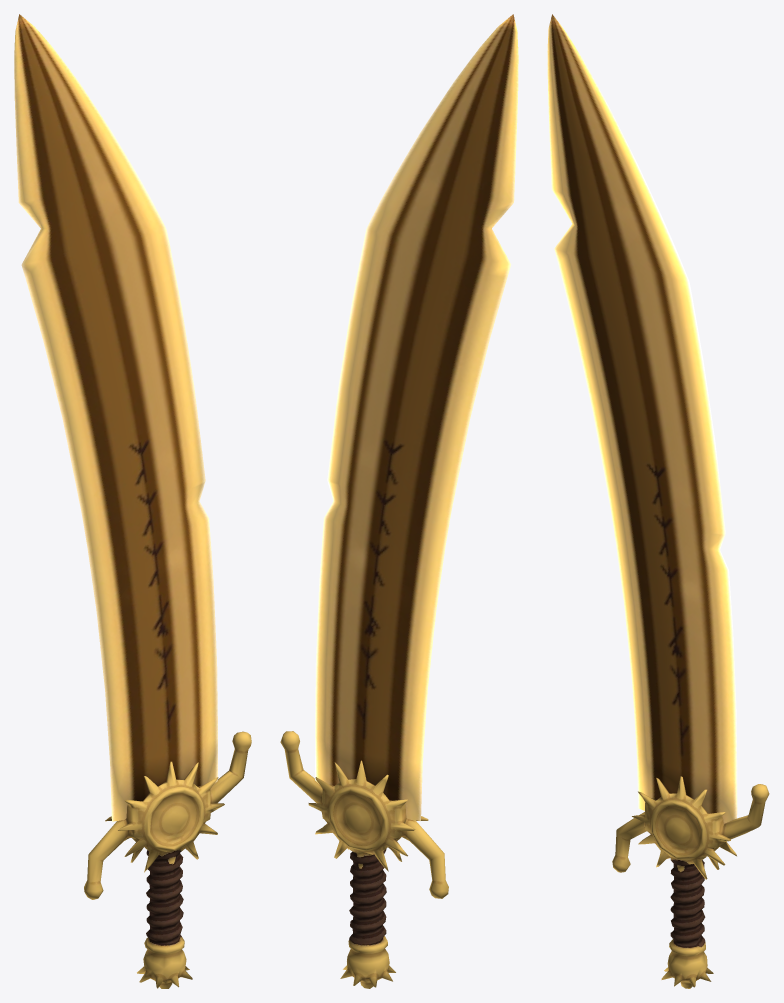
Rendered from weapon_dawn.glb.
3 renders of one model, left to right at view 1: azimuth 30°, elevation 25°; view 2: azimuth 150°, elevation 25°; view 3: azimuth 330°, elevation 25°, orthographic. The views are drawn at different scales.
Parts seen in each view (by area): view 1: weapon_dawn; view 2: weapon_dawn; view 3: weapon_dawn.
Boxes of the visible parts, x1,y1,x2,y2 form: weapon_dawn: [14, 14, 251, 988]; weapon_dawn: [280, 14, 518, 988]; weapon_dawn: [547, 14, 769, 988].
Bounding box in the file's own units: 0.2681 × 1.1 × 0.057.
Materials: 1 (1 with a texture image).
